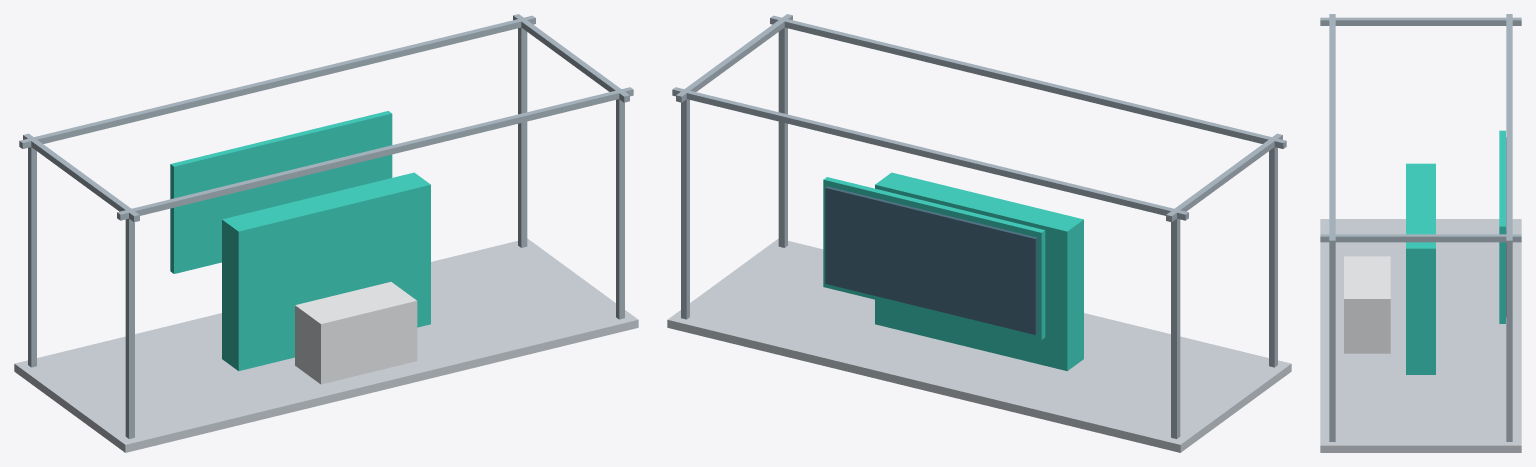
The picture shows the model from 3 angles, left to right: view 1: azimuth 30°, elevation 25°; view 2: azimuth 150°, elevation 25°; view 3: azimuth 270°, elevation 25°; orthographic projection. The views are drawn at different scales.
Visible parts, largest first — view 1: Exhibition Booth Concept; view 2: Exhibition Booth Concept; view 3: Exhibition Booth Concept.
Boxes of the visible parts, x1,y1,x2,y2 form: Exhibition Booth Concept: (14, 14, 638, 452); Exhibition Booth Concept: (667, 14, 1291, 452); Exhibition Booth Concept: (1320, 14, 1521, 452).
Size of the model in its own units: 8 by 3.49 by 3.
